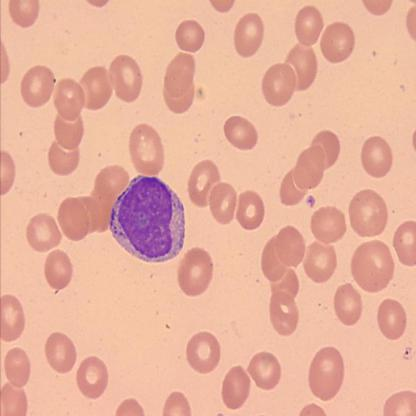Myelocyte: (111, 175, 186, 267)
